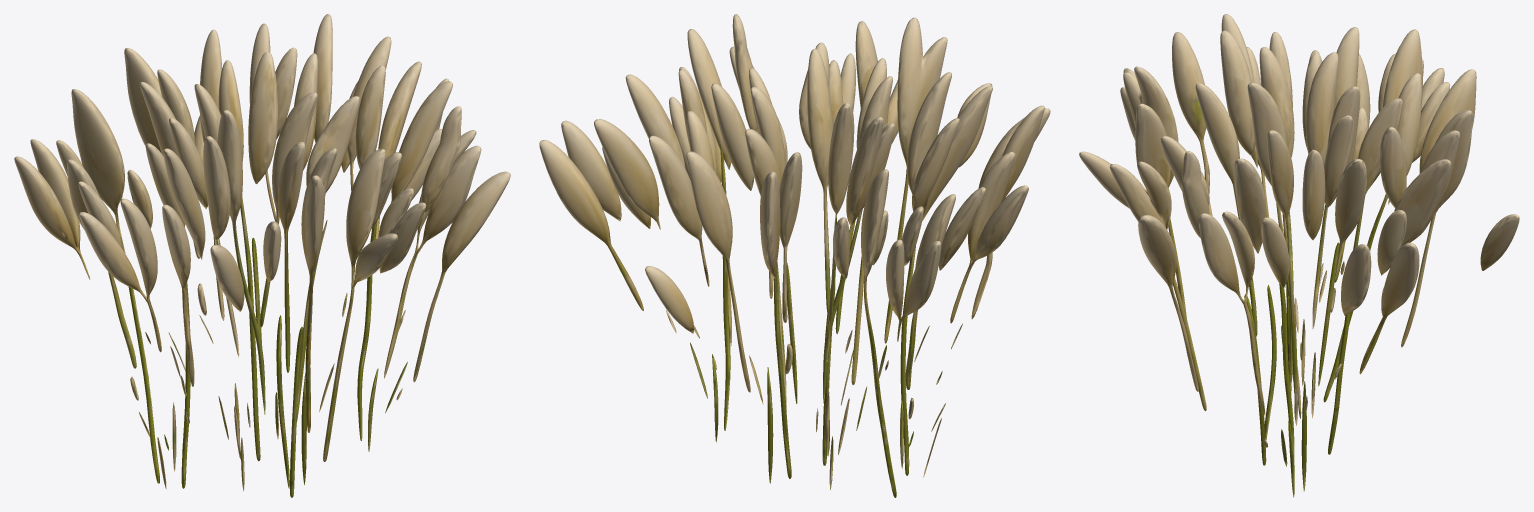
File: Grass.glb
3 renders of one model, left to right at view 1: azimuth 30°, elevation 25°; view 2: azimuth 150°, elevation 25°; view 3: azimuth 270°, elevation 25°, orthographic. The views are drawn at different scales.
Visible parts, largest first — view 1: node_0.002, node_0, node_0.001; view 2: node_0.002, node_0, node_0.001; view 3: node_0.001, node_0.002, node_0.
Part boxes in pixels (box(x1,y1,x2,y2)): node_0.002: box(124, 29, 402, 497); node_0: box(14, 82, 281, 488); node_0.001: box(249, 14, 510, 451); node_0.002: box(652, 17, 947, 489); node_0: box(833, 72, 1050, 497); node_0.001: box(539, 14, 855, 442); node_0.001: box(1109, 115, 1519, 497); node_0.002: box(1079, 48, 1515, 491); node_0: box(1120, 14, 1449, 402).
Size of the model in its own units: 0.9532 by 0.9117 by 0.908.
1 material, 1 textured.
